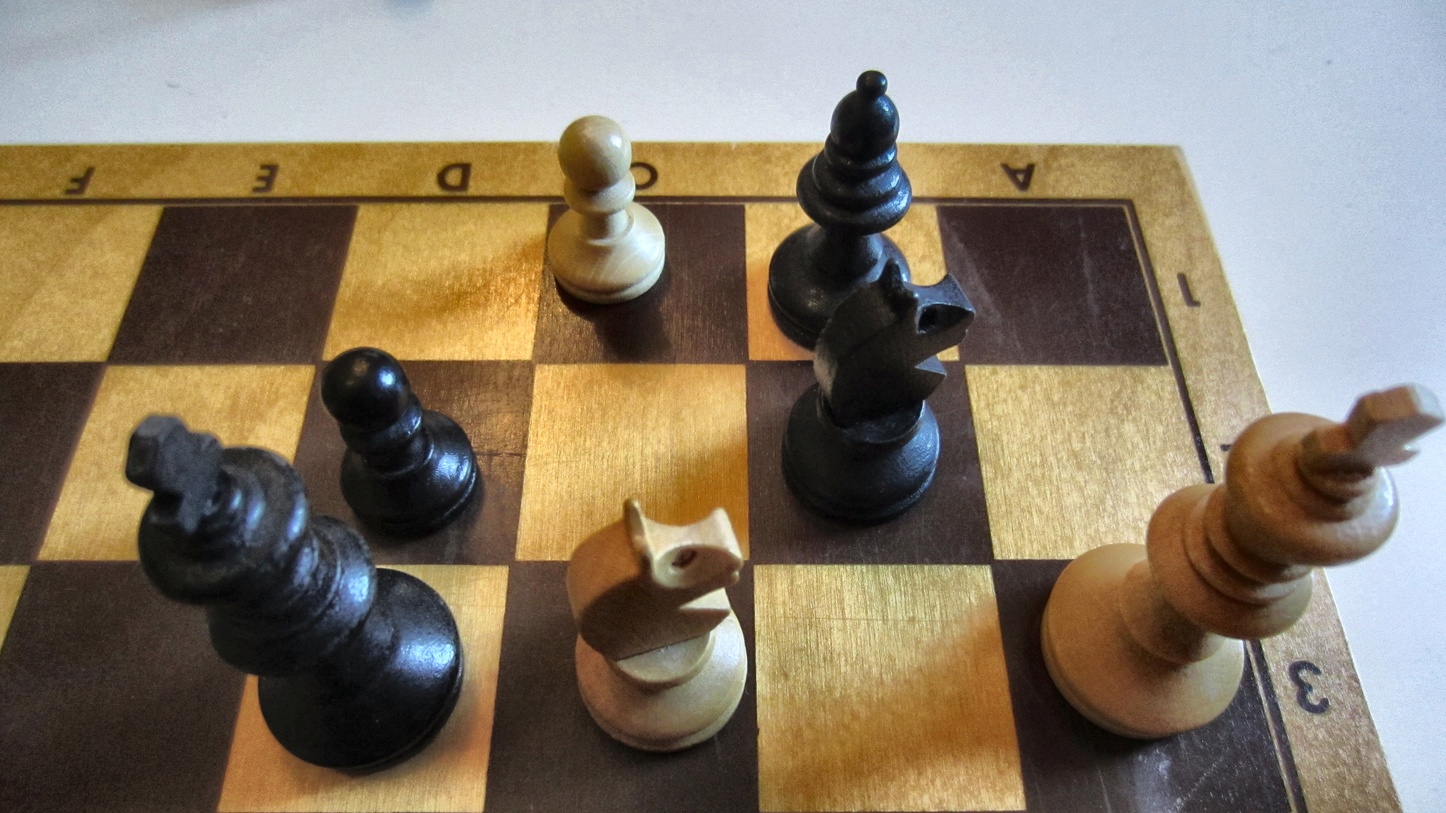black-bishop: (765, 69, 917, 352)
black-king: (120, 413, 466, 775)
black-knight: (779, 256, 976, 526)
black-pawn: (317, 344, 481, 542)
white-king: (1036, 380, 1446, 744)
white-knight: (564, 495, 750, 755)
white-pawn: (545, 114, 668, 306)
